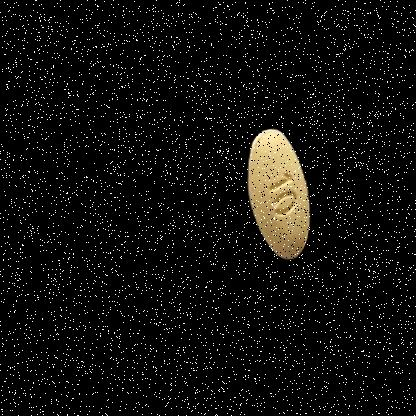tovast10: (225, 114, 333, 286)
